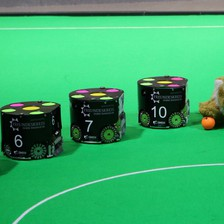ball: (200, 114, 215, 131)
robot: (1, 98, 64, 162), (67, 83, 127, 144), (135, 73, 191, 130)
